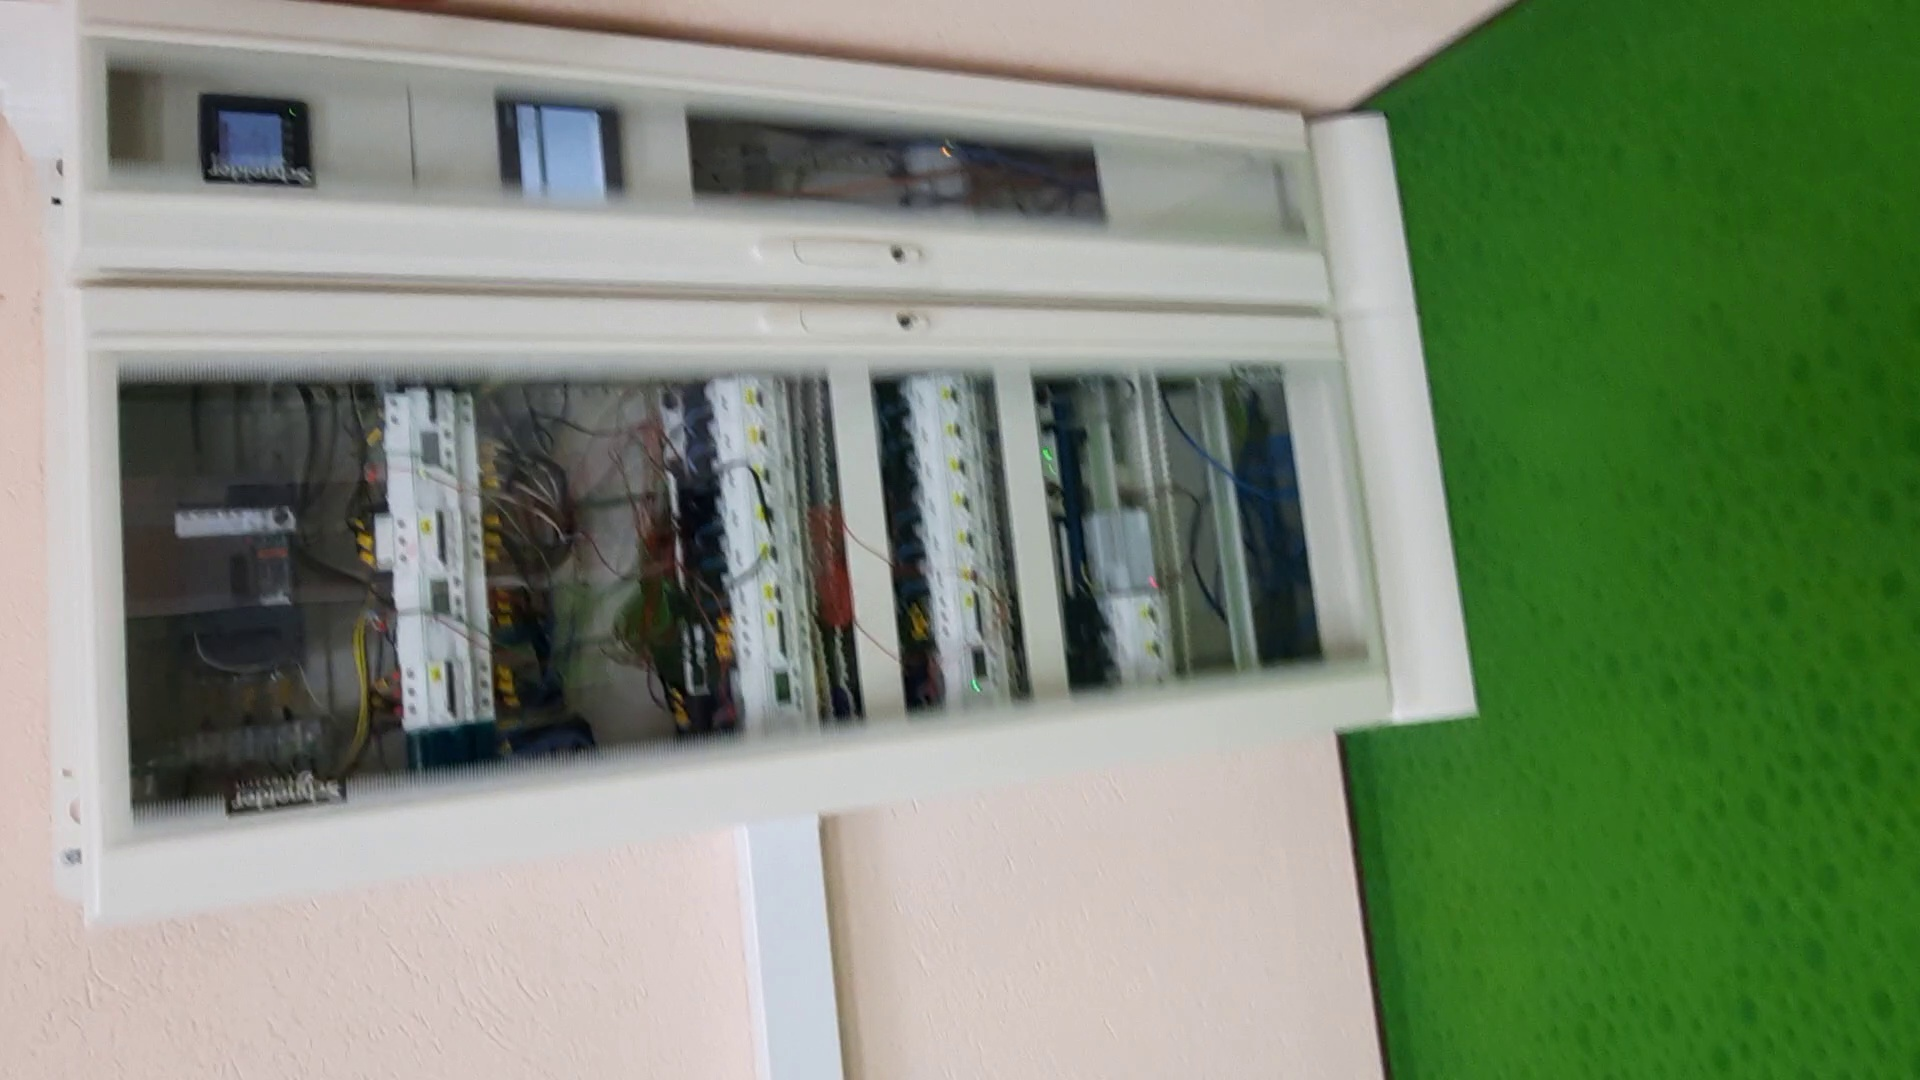stand1: (45, 1, 1491, 919)
